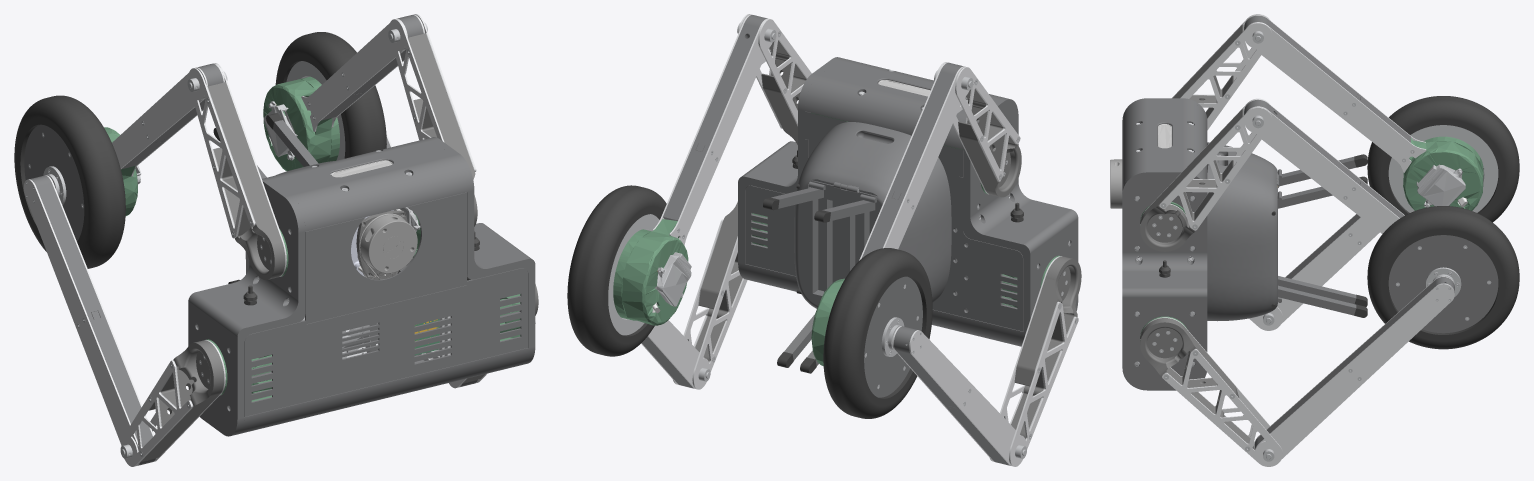
The model's file is primus.glb.
3 renders of one model, left to right at view 1: azimuth 30°, elevation 25°; view 2: azimuth 150°, elevation 25°; view 3: azimuth 270°, elevation 25°, orthographic. The views are drawn at different scales.
Parts seen in each view (by area): view 1: Tampa_superior_traseira_X-_1_m0, Tampa_superior_traseira_X_1_m0, Caixa_do_quadril_X-_1_m0, Tampa_frontal_Y_RealSense_D435i_1_m0, lower_new_2__Body5_m0, Tampa_superior_dianteira_X-_1_m0, Tampa_superior_dianteira_X_1_m0, upper_arm_espelhado_1__upper_arm_1__Component495_1_m0, lower_new_1__Body5_m0, lower_new_2__lower_link_1__Component3_1_m2, lower_new_2__lower_link_1__Component2_1_m0, upper_arm_2__Component495_1_m0 (+20 smaller); view 2: Barriga_trem_retratil_1__Barriga_organica_1_m0, lower_new_2__Body5_m0, lower_new_1__Body5_m0, Caixa_do_quadril_X-_1_m0, Barriga_trem_retratil_1__Tampa_frontal_da_barriga_bateria_1_, Tampa_frontal_Y_RealSense_D435i_1_m0, Tampa_inferior_lateral_X-_1_m0, lower_new_1__OpenQDD_Actuator_wheel_novos_rolamentos_2_m2, upper_arm_2__Component495_1_m0, lower_new_2__Body6_m0, lower_new_2__lower_link_1__Component2_1_m0, Tampa_inferior_lateral_X_1_m0 (+24 smaller); view 3: Caixa_do_quadril_X_1_m0, lower_new_1__Body5_m0, Barriga_trem_retratil_1__Barriga_organica_1_m0, lower_new_1__Body6_m0, lower_new_2__Body5_m0, lower_new_1__lower_link_1__Component2_1_m0, Tampa_frontal_Y_RealSense_D435i_1_m0, lower_new_2__lower_link_1_1__Component10_1_m0, lower_new_1__lower_link_1_1__Component8_1_m0, lower_new_2__OpenQDD_Actuator_wheel_novos_rolamentos_2_m2, upper_arm_espelhado_2__upper_arm_1__Component495_1_m0, upper_arm_1__Component495_1_m0 (+18 smaller).
Part boxes in pixels (x1,y1,x2,y2): Tampa_superior_traseira_X-_1_m0: (244,305,386,416); Tampa_superior_traseira_X_1_m0: (386,268,527,382); Caixa_do_quadril_X-_1_m0: (188,178,305,436); Tampa_frontal_Y_RealSense_D435i_1_m0: (265,138,467,231); lower_new_2__Body5_m0: (14,95,125,268); Tampa_superior_dianteira_X-_1_m0: (305,217,386,324); Tampa_superior_dianteira_X_1_m0: (380,192,466,304); upper_arm_espelhado_1__upper_arm_1__Component495_1_m0: (207,82,285,279); lower_new_1__Body5_m0: (275,32,386,158); lower_new_2__lower_link_1__Component3_1_m2: (30,175,155,465); lower_new_2__lower_link_1__Component2_1_m0: (24,179,140,465); upper_arm_2__Component495_1_m0: (141,340,224,461); Barriga_trem_retratil_1__Barriga_organica_1_m0: (794,140,959,315); lower_new_2__Body5_m0: (823,248,932,418); lower_new_1__Body5_m0: (567,185,666,356); Caixa_do_quadril_X-_1_m0: (963,97,1078,338); Barriga_trem_retratil_1__Tampa_frontal_da_barriga_bateria_1_: (804,111,963,195); Tampa_frontal_Y_RealSense_D435i_1_m0: (805,58,1003,149); Tampa_inferior_lateral_X-_1_m0: (959,177,1023,331); lower_new_1__OpenQDD_Actuator_wheel_novos_rolamentos_2_m2: (613,219,688,325); upper_arm_2__Component495_1_m0: (1011,256,1081,439); lower_new_2__Body6_m0: (864,276,922,397); lower_new_2__lower_link_1__Component2_1_m0: (909,330,1020,465); Tampa_inferior_lateral_X_1_m0: (745,139,808,275); Caixa_do_quadril_X_1_m0: (1122,169,1207,390); lower_new_1__Body5_m0: (1367,206,1519,349); Barriga_trem_retratil_1__Barriga_organica_1_m0: (1207,164,1279,321); lower_new_1__Body6_m0: (1388,235,1498,333); lower_new_2__Body5_m0: (1367,96,1519,222); lower_new_1__lower_link_1__Component2_1_m0: (1255,283,1454,458); Tampa_frontal_Y_RealSense_D435i_1_m0: (1122,101,1207,190); lower_new_2__lower_link_1_1__Component10_1_m0: (1246,22,1426,172); lower_new_1__lower_link_1_1__Component8_1_m0: (1245,106,1399,233); lower_new_2__OpenQDD_Actuator_wheel_novos_rolamentos_2_m2: (1403,136,1483,210); upper_arm_espelhado_2__upper_arm_1__Component495_1_m0: (1140,318,1254,449); upper_arm_1__Component495_1_m0: (1140,109,1243,251).
Size of the model in its own units: 0.505 by 0.52 by 0.5784.
